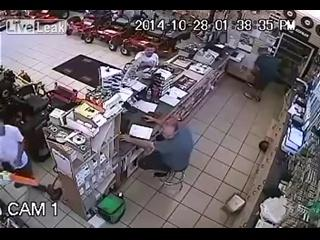Normal: (136, 111, 194, 186), (243, 46, 290, 103)
